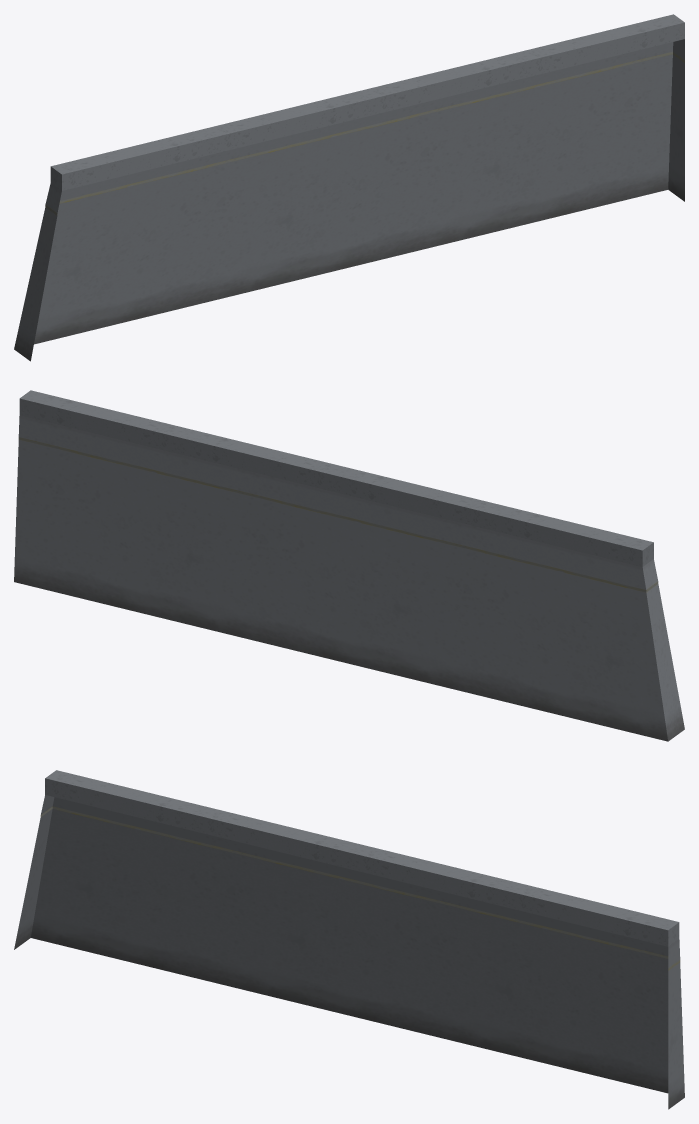
Rendered from spaceStation_sidewalk_endL.fbx.
The picture shows the model from 3 angles, top to bottom: view 1: azimuth 30°, elevation 25°; view 2: azimuth 150°, elevation 25°; view 3: azimuth 330°, elevation 25°; orthographic projection.
Parts seen in each view (by area): view 1: station_Sidewalk_EndCap, station_Sidewalk_EndCapTop; view 2: station_Sidewalk_EndCap, station_Sidewalk_EndCapTop; view 3: station_Sidewalk_EndCap, station_Sidewalk_EndCapTop.
Part boxes in pixels (x1=…): station_Sidewalk_EndCap: x1=14, y1=39, x2=684, y2=361; station_Sidewalk_EndCapTop: x1=50, y1=14, x2=684, y2=190; station_Sidewalk_EndCap: x1=14, y1=415, x2=684, y2=741; station_Sidewalk_EndCapTop: x1=19, y1=390, x2=653, y2=566; station_Sidewalk_EndCap: x1=14, y1=795, x2=684, y2=1109; station_Sidewalk_EndCapTop: x1=45, y1=770, x2=679, y2=946.
Size of the model in its own units: 8.4 by 2.2 by 0.3732.
Materials: 2 (2 with a texture image).
